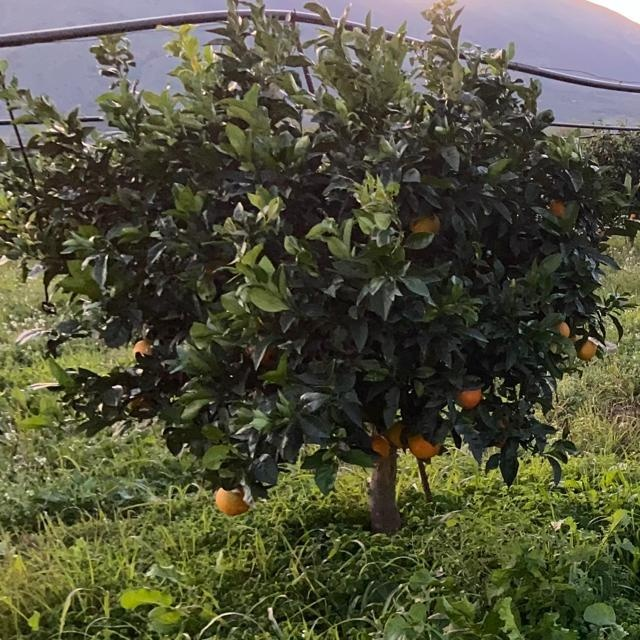orange: (213, 482, 251, 514), (405, 430, 443, 460), (407, 208, 443, 238), (131, 333, 159, 361), (366, 431, 392, 459), (548, 195, 574, 223), (248, 341, 276, 365), (576, 334, 600, 360), (457, 385, 481, 409), (385, 417, 409, 441), (552, 317, 574, 337)
